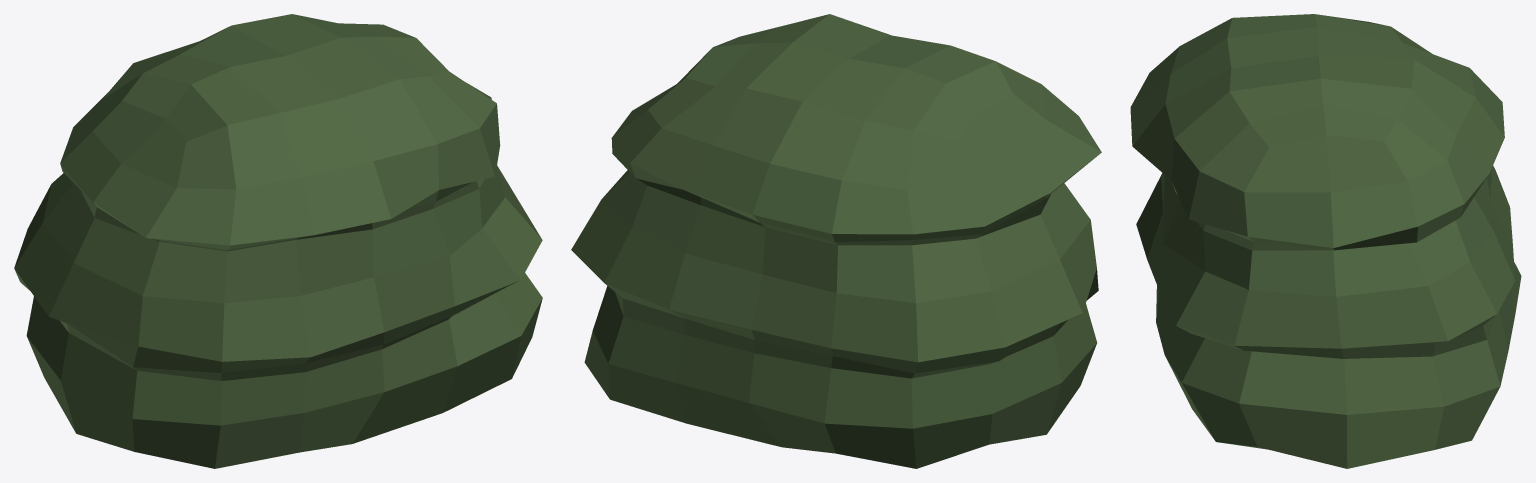
File: bushberries_harvested.gltf
3 renders of one model, left to right at view 1: azimuth 30°, elevation 25°; view 2: azimuth 150°, elevation 25°; view 3: azimuth 270°, elevation 25°, orthographic. The views are drawn at different scales.
Parts seen in each view (by area): view 1: bushberries_harvested; view 2: bushberries_harvested; view 3: bushberries_harvested.
Part boxes in pixels (x1,y1,x2,y2): bushberries_harvested: [14, 14, 542, 468]; bushberries_harvested: [571, 14, 1101, 468]; bushberries_harvested: [1130, 14, 1521, 468].
Bounding box in the file's own units: 1.72 × 1.25 × 1.32.
1 material, 1 textured.
